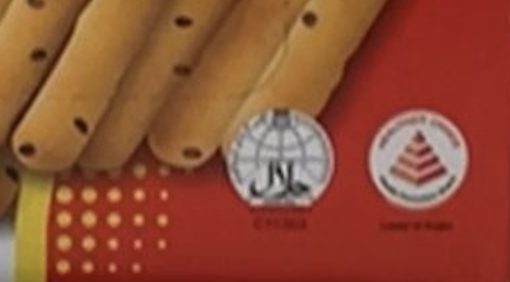halal: (243, 120, 322, 202)
